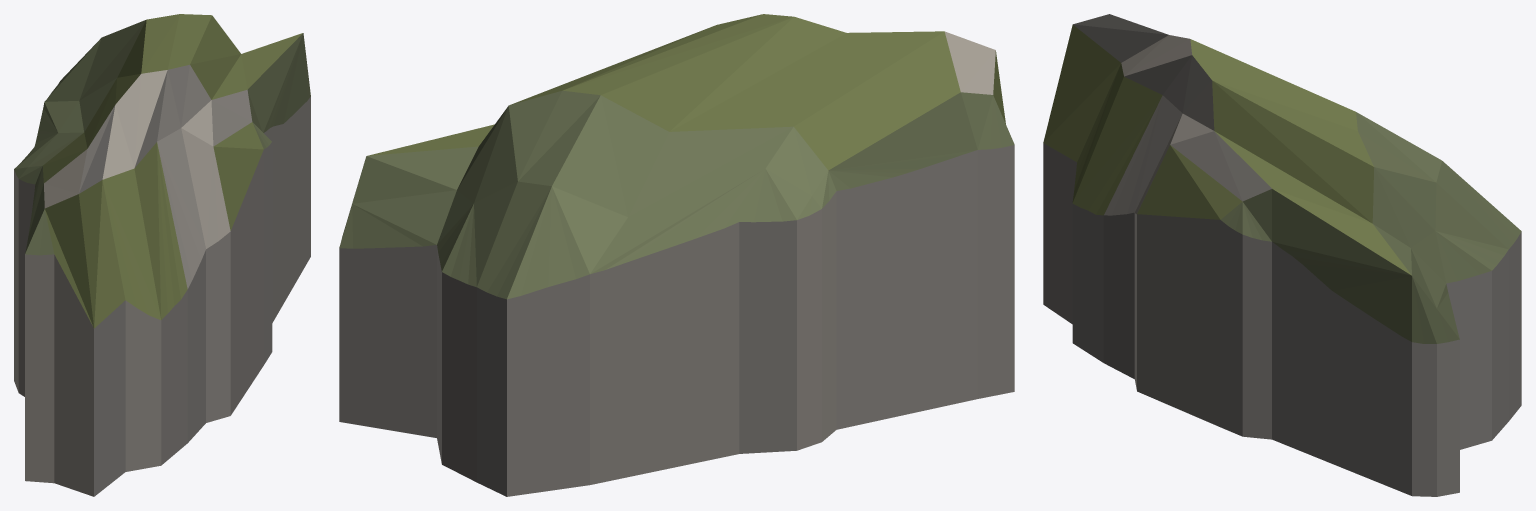
Rendered from cliff_crown.glb.
The picture shows the model from 3 angles, left to right: view 1: azimuth 30°, elevation 25°; view 2: azimuth 150°, elevation 25°; view 3: azimuth 270°, elevation 25°; orthographic projection. The views are drawn at different scales.
Visible parts, largest first — view 1: cliff_crown; view 2: cliff_crown; view 3: cliff_crown.
Boxes of the visible parts, left/top/right/bottom form: cliff_crown: left=14, top=14, right=310, bottom=496; cliff_crown: left=339, top=14, right=1014, bottom=496; cliff_crown: left=1043, top=14, right=1521, bottom=496.
Size of the model in its own units: 134 by 97 by 130.
